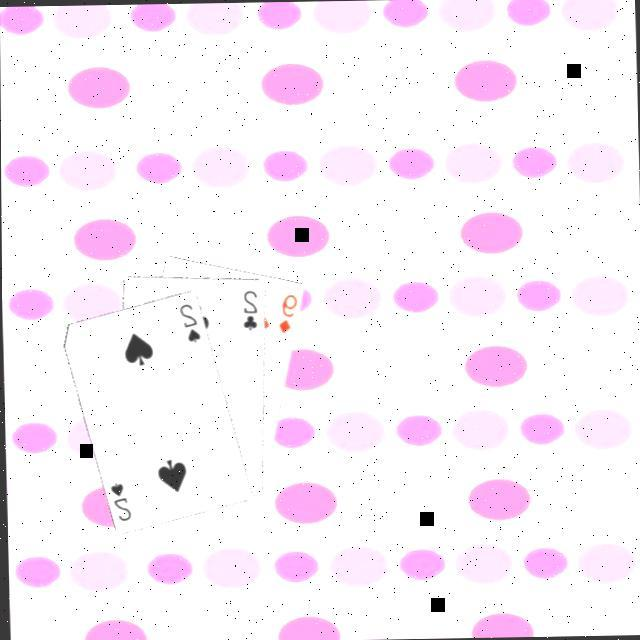2C: (241, 287, 262, 334)
2S: (177, 301, 204, 347), (108, 479, 135, 524)
9D: (275, 291, 302, 337)
